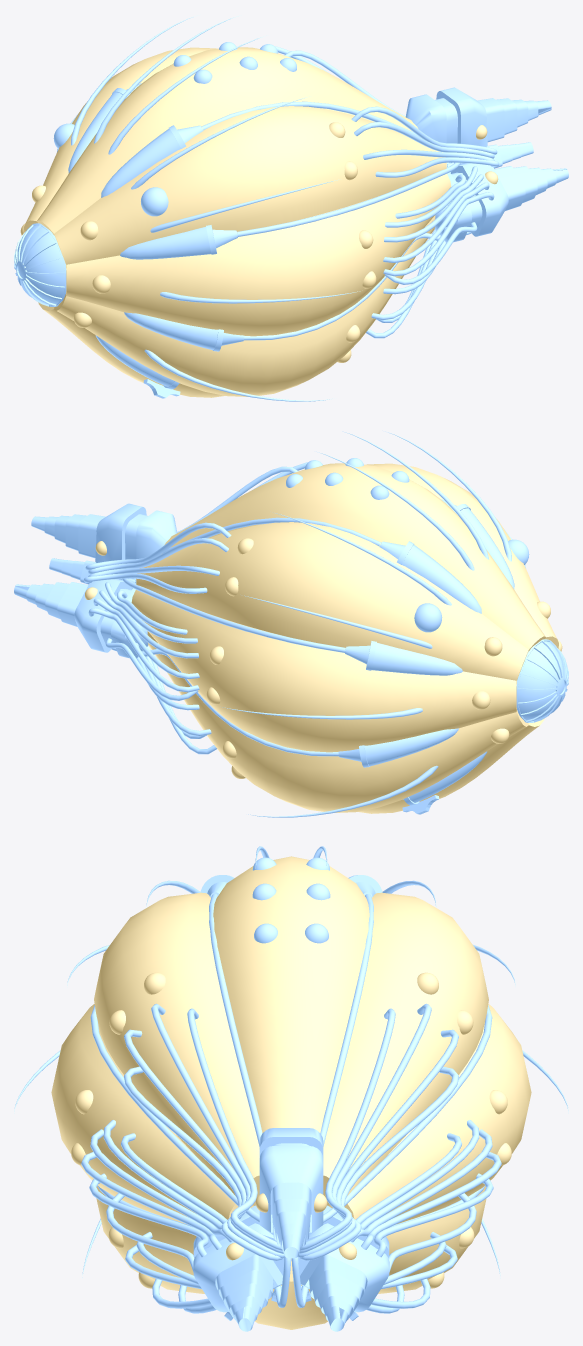
The model's file is flux-harvester.glb.
3 renders of one model, top to bottom at view 1: azimuth 30°, elevation 25°; view 2: azimuth 150°, elevation 25°; view 3: azimuth 270°, elevation 25°, orthographic. The views are drawn at different scales.
Parts seen in each view (by area): view 1: Sphere.152_copy_low; view 2: Sphere.152_copy_low; view 3: Sphere.152_copy_low.
Part boxes in pixels (x1,y1,x2,y2): Sphere.152_copy_low: [14, 15, 568, 401]; Sphere.152_copy_low: [14, 431, 568, 817]; Sphere.152_copy_low: [14, 846, 568, 1331].
Bounding box in the file's own units: 1.83 × 1.18 × 1.27.
